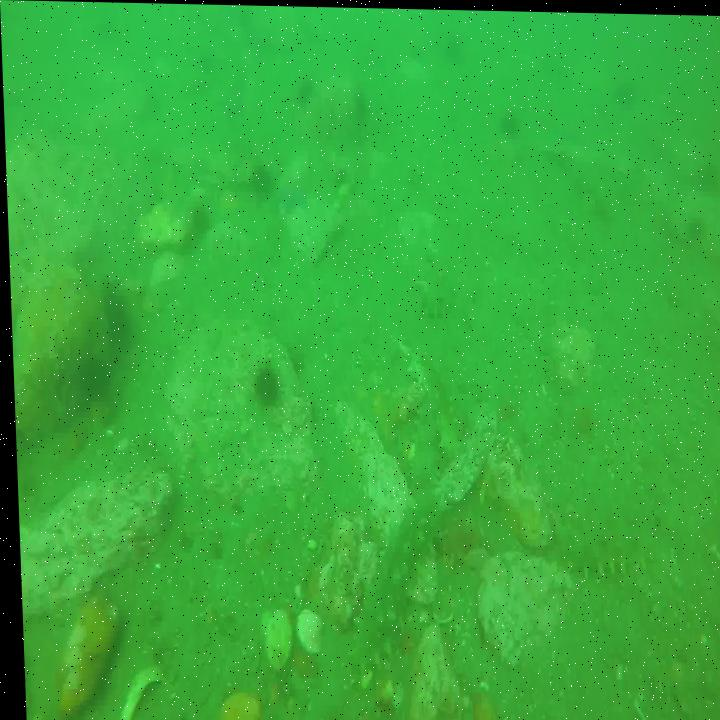echinus: (251, 364, 281, 410), (252, 161, 275, 195), (497, 110, 518, 134)
holothurian: (342, 503, 440, 677), (537, 531, 635, 572), (412, 280, 449, 309)
starfish: (271, 175, 311, 208)
